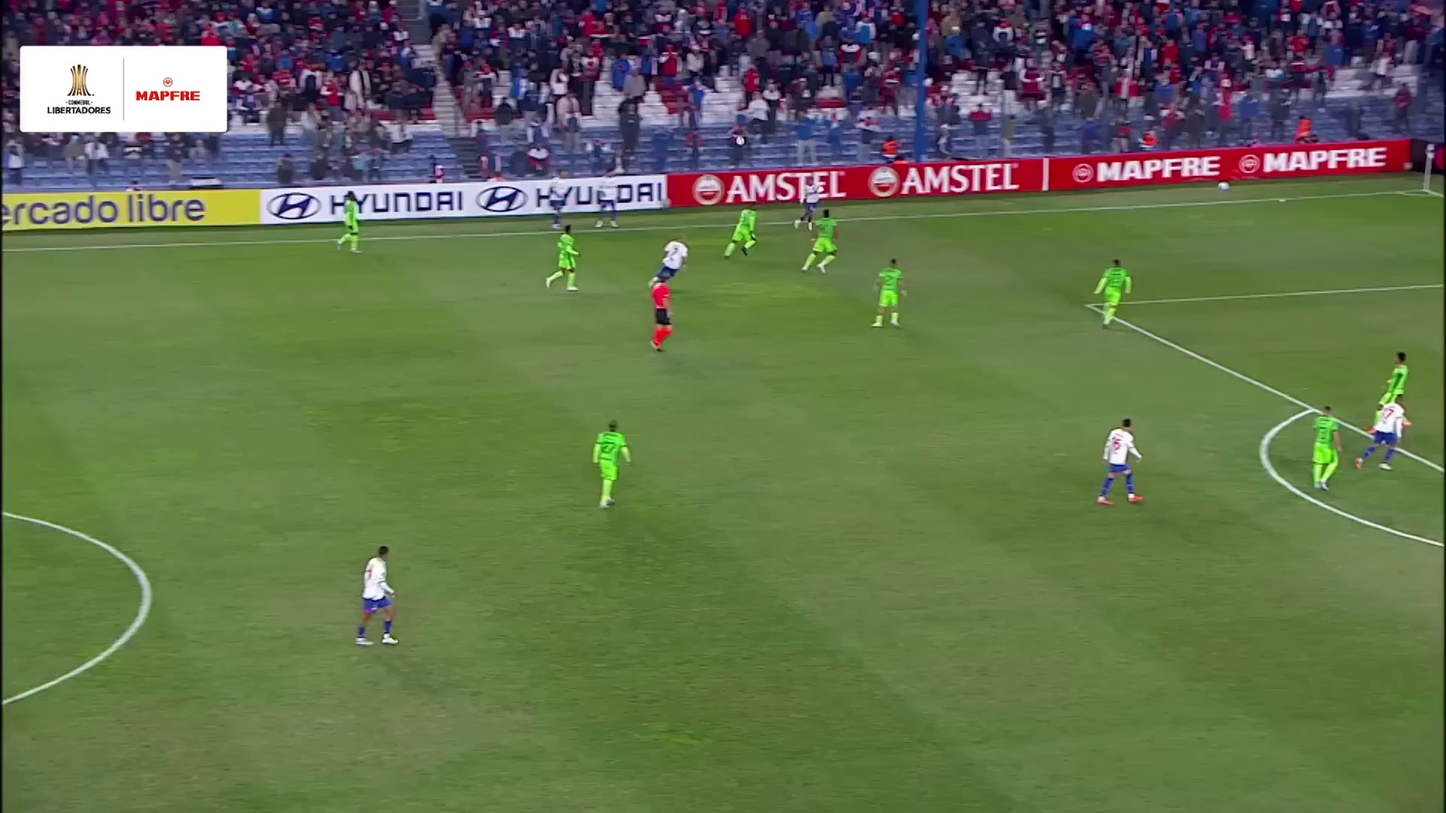ball: (732, 134, 748, 147)
player: (353, 542, 403, 648), (1094, 416, 1147, 506), (1354, 396, 1412, 473), (589, 419, 634, 511), (1306, 404, 1346, 494), (1085, 258, 1134, 330), (868, 257, 910, 331), (801, 209, 842, 275), (544, 225, 582, 292), (1379, 349, 1413, 416), (652, 236, 692, 289), (334, 189, 366, 255), (722, 206, 761, 260), (593, 167, 623, 231), (547, 171, 573, 230), (793, 184, 823, 233)
referee: (646, 273, 678, 353)
